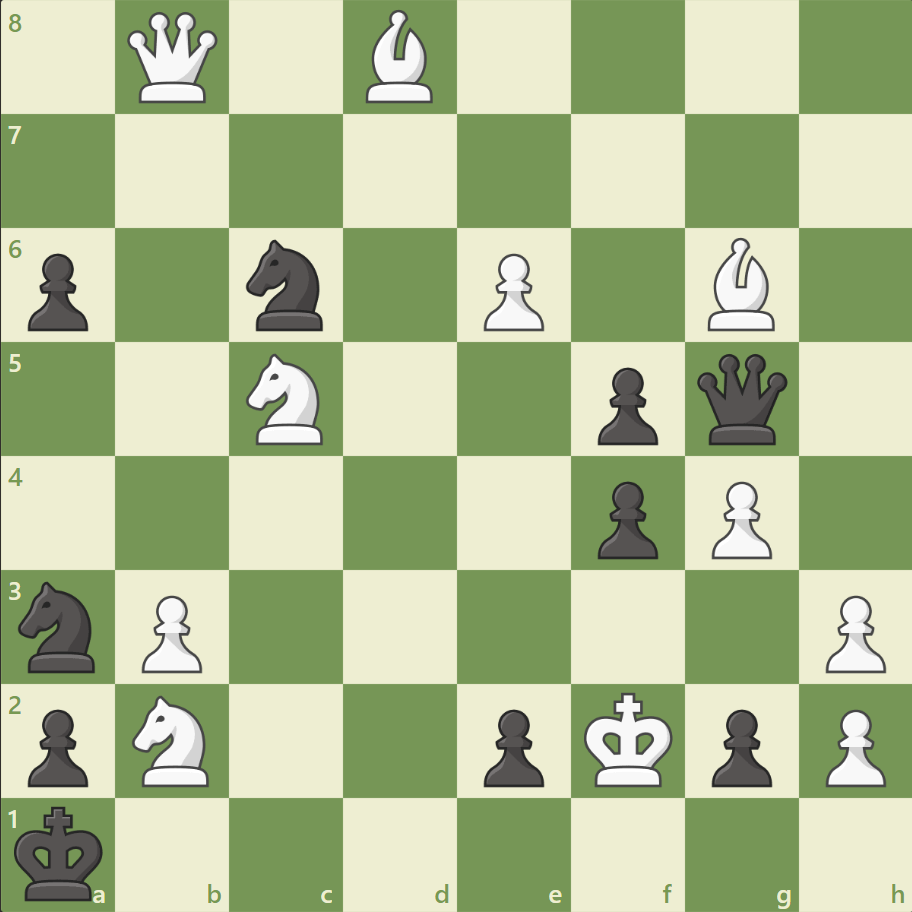B: (358, 6, 442, 109), (698, 233, 782, 336)
K: (579, 685, 679, 793)
N: (124, 688, 222, 791), (238, 348, 335, 450)
P: (474, 246, 549, 337), (701, 473, 776, 564), (133, 586, 208, 677), (815, 586, 889, 677), (815, 700, 889, 791)
Q: (124, 9, 223, 108)
k: (11, 798, 111, 906)
n: (238, 234, 335, 337), (11, 575, 108, 677)
p: (20, 246, 95, 337), (20, 700, 95, 791), (474, 700, 549, 791), (701, 700, 776, 791), (588, 359, 662, 450), (588, 473, 662, 564)
q: (691, 349, 790, 449)
